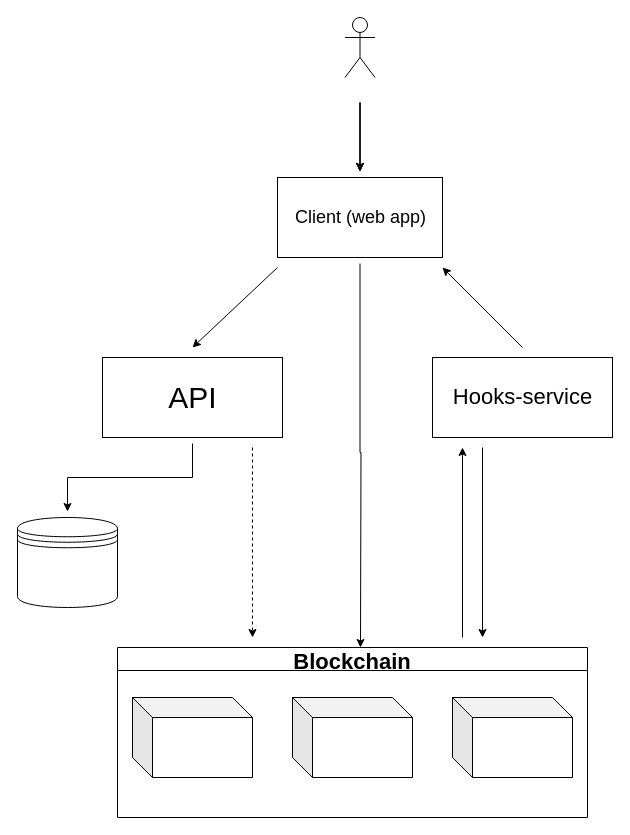
The diagram is 630 pixels wide and 835 high, and some of its shapes have lost their labels. Each missing label, with the centre of its shape:
"Applicant" goes at (359,47).
"DB" goes at (67,562).
